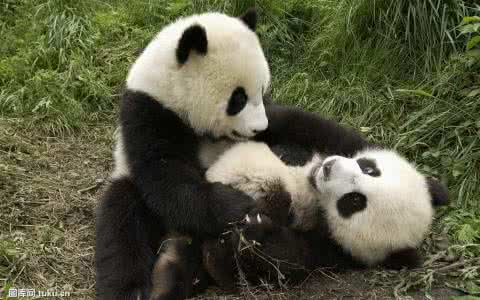panda: (92, 9, 276, 295), (149, 144, 453, 300)
